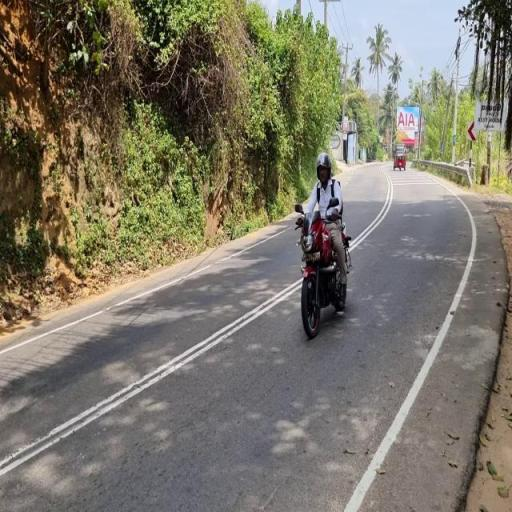double_white_line: (0, 281, 301, 478)
